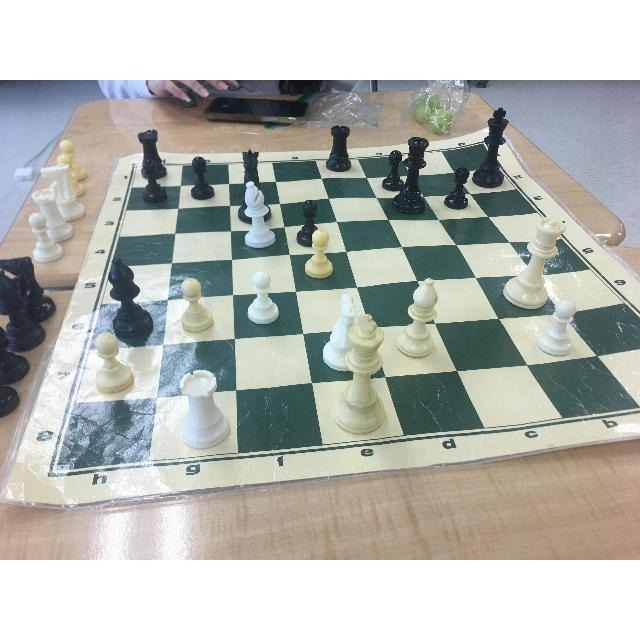black-bishop: (95, 253, 157, 339)
black-king: (477, 97, 510, 191)
black-knight: (239, 147, 275, 210)
black-pawn: (185, 149, 219, 205), (143, 157, 174, 212), (292, 194, 321, 238), (447, 161, 473, 207), (387, 148, 411, 194)
black-queen: (407, 132, 433, 210)
black-rook: (326, 117, 358, 183), (134, 127, 170, 174)
white-bishop: (397, 270, 449, 372), (240, 176, 274, 248)
white-king: (331, 310, 388, 428)
white-knight: (324, 291, 359, 375)
white-pawn: (87, 324, 141, 395), (539, 290, 580, 369), (177, 265, 217, 337), (240, 268, 282, 325), (306, 226, 335, 282)
white-queen: (504, 211, 568, 310)
white-rook: (176, 359, 233, 455)
